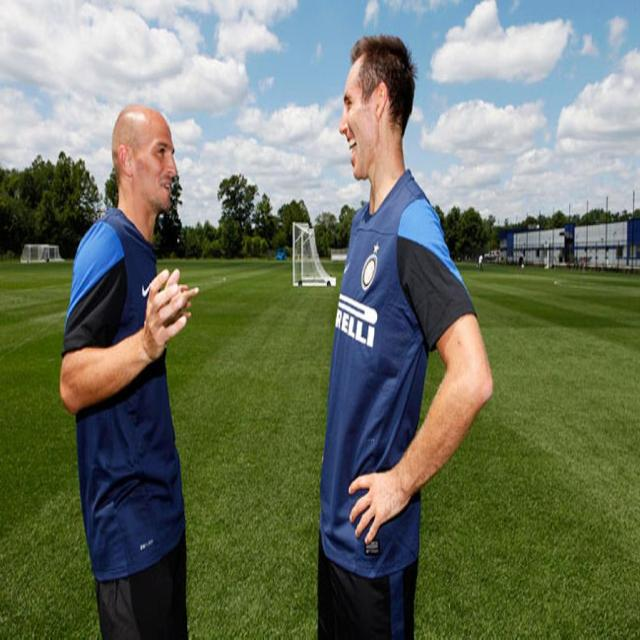Face: (333, 48, 387, 191), (127, 110, 176, 217)
